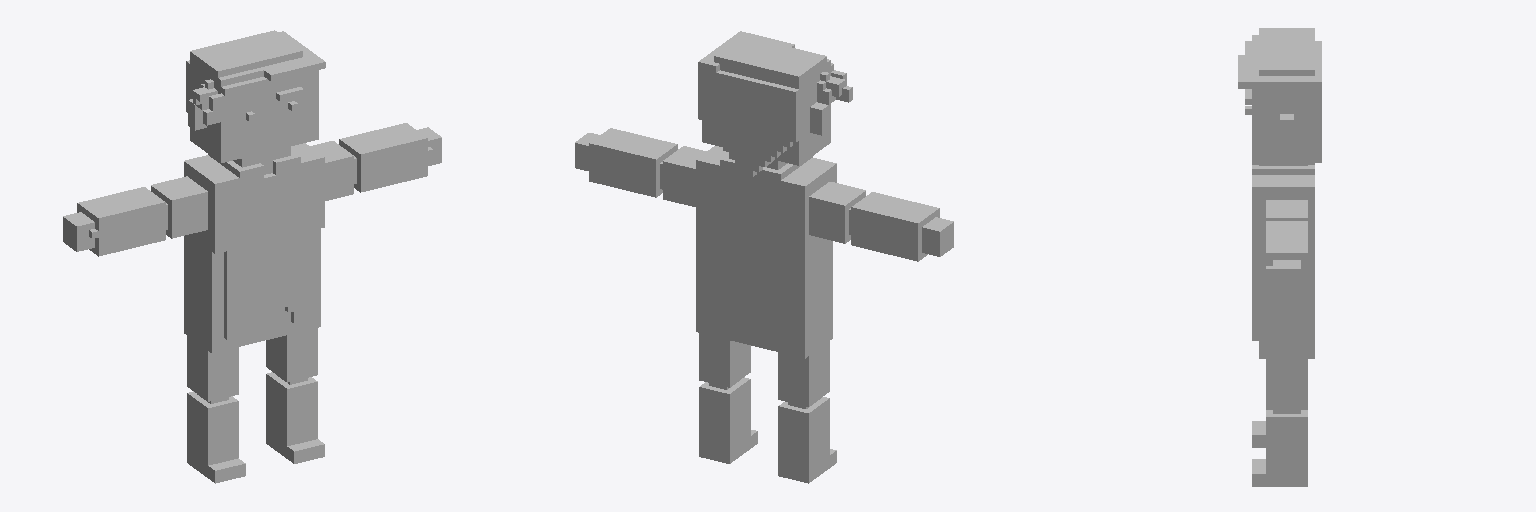
The model's file is Person.obj.
3 renders of one model, left to right at view 1: azimuth 30°, elevation 25°; view 2: azimuth 150°, elevation 25°; view 3: azimuth 270°, elevation 25°, orthographic.
Parts seen in each view (by area): view 1: Char_01; view 2: Char_01; view 3: Char_01.
Part boxes in pixels (left/top/right/bottom): Char_01: left=63, top=30, right=441, bottom=483; Char_01: left=575, top=31, right=953, bottom=483; Char_01: left=1238, top=28, right=1321, bottom=486.
Size of the model in its own units: 2.4 by 2.56 by 0.48.